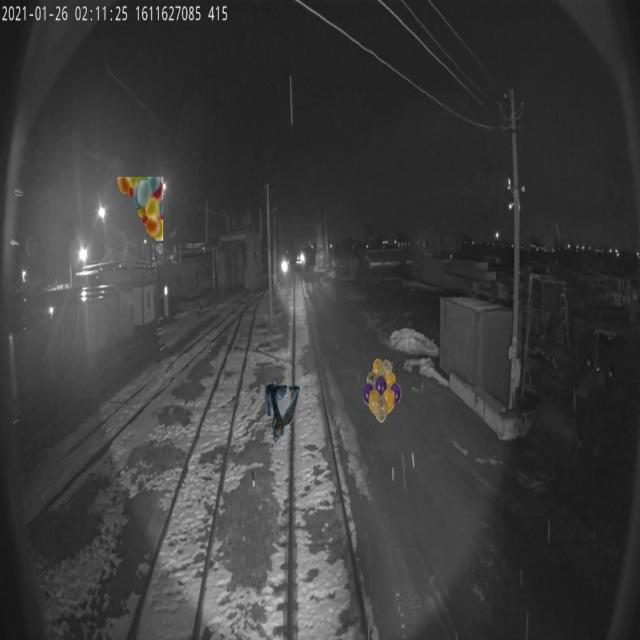balloon: (117, 177, 163, 240), (362, 358, 402, 422)
floating object: (264, 381, 300, 445)
